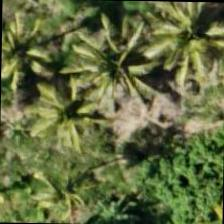Kelapa_Sawit: (21, 61, 113, 153), (70, 10, 162, 102), (0, 5, 63, 96), (149, 1, 223, 78)
